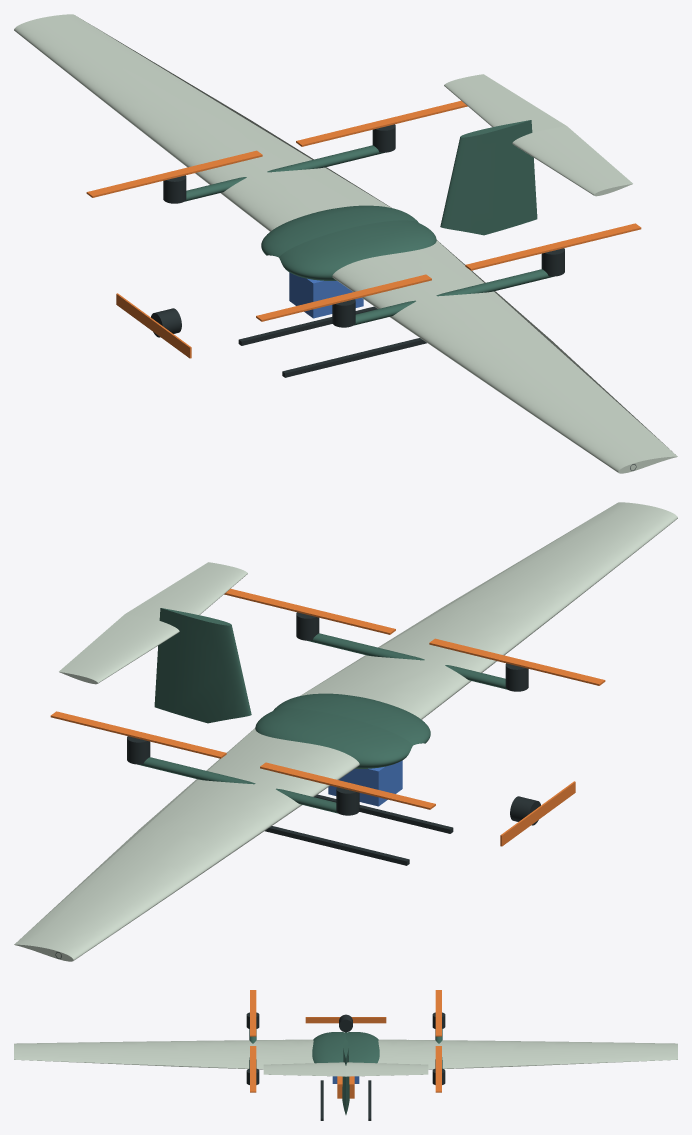
The model's file is surface_tools-09-internal.glb.
3 renders of one model, top to bottom at view 1: azimuth 30°, elevation 25°; view 2: azimuth 150°, elevation 25°; view 3: azimuth 270°, elevation 25°, orthographic. The views are drawn at different scales.
Parts seen in each view (by area): view 1: wing-1, wing1, fin, root_fairing-1, tail-1, root_fairing1, tail1, payload, boom_fairing-1, boom_fairing1, prop_-1_700.0, prop_-1_200.0 (+5 smaller); view 2: wing1, wing-1, fin, root_fairing1, tail1, root_fairing-1, tail-1, payload, boom_fairing1, boom_fairing-1, prop_1_700.0, prop_1_200.0 (+5 smaller); view 3: wing-1, wing1, tail-1, tail1, root_fairing-1, root_fairing1, cruise_prop, fin, prop_-1_200.0, prop_-1_700.0, prop_1_200.0, prop_1_700.0 (+1 smaller).
Part boxes in pixels (x1=…): wing-1: x1=332, y1=240, x2=677, y2=473; wing1: x1=14, y1=14, x2=391, y2=231; fin: x1=440, y1=120, x2=537, y2=235; root_fairing-1: x1=279, y1=220, x2=436, y2=280; tail-1: x1=512, y1=126, x2=632, y2=196; root_fairing1: x1=261, y1=205, x2=418, y2=257; tail1: x1=444, y1=74, x2=566, y2=132; payload: x1=289, y1=272, x2=363, y2=318; boom_fairing-1: x1=354, y1=269, x2=553, y2=325; boom_fairing1: x1=184, y1=145, x2=384, y2=201; prop_-1_700.0: x1=465, y1=223, x2=641, y2=270; prop_-1_200.0: x1=256, y1=274, x2=431, y2=321; wing1: x1=14, y1=728, x2=359, y2=961; wing-1: x1=300, y1=502, x2=677, y2=719; fin: x1=154, y1=608, x2=251, y2=723; root_fairing1: x1=255, y1=708, x2=412, y2=768; tail1: x1=59, y1=614, x2=179, y2=684; root_fairing-1: x1=273, y1=693, x2=430, y2=745; tail-1: x1=125, y1=562, x2=247, y2=620; payload: x1=328, y1=760, x2=402, y2=806; boom_fairing1: x1=138, y1=757, x2=337, y2=813; boom_fairing-1: x1=307, y1=633, x2=507, y2=689; prop_1_700.0: x1=50, y1=711, x2=226, y2=758; prop_1_200.0: x1=260, y1=762, x2=435, y2=809; wing-1: x1=14, y1=1039, x2=314, y2=1069; wing1: x1=377, y1=1039, x2=677, y2=1069; tail-1: x1=263, y1=1062, x2=345, y2=1076; tail1: x1=346, y1=1062, x2=428, y2=1076; root_fairing-1: x1=312, y1=1032, x2=345, y2=1063; root_fairing1: x1=346, y1=1032, x2=379, y2=1063; cruise_prop: x1=305, y1=1017, x2=386, y2=1023; fin: x1=342, y1=1039, x2=349, y2=1114; prop_-1_200.0: x1=250, y1=990, x2=256, y2=1036; prop_-1_700.0: x1=250, y1=1046, x2=256, y2=1092; prop_1_200.0: x1=435, y1=990, x2=441, y2=1036; prop_1_700.0: x1=435, y1=1046, x2=441, y2=1092.
Bounding box in the file's own units: 989 × 400 × 2500.
